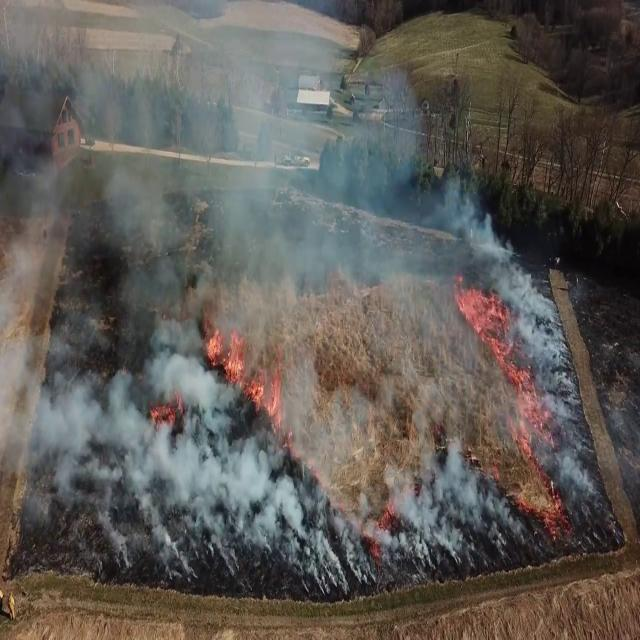Fire: (205, 319, 277, 421), (454, 280, 494, 350)
Smoke: (1, 6, 438, 322), (0, 330, 439, 604), (447, 182, 551, 342)
